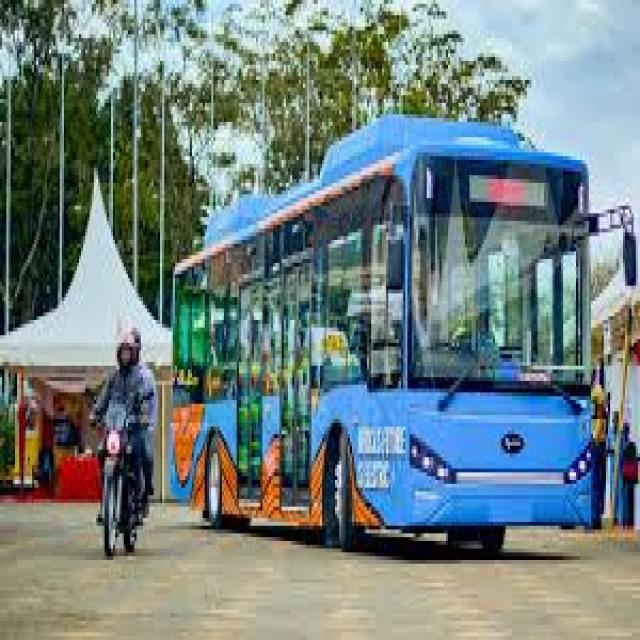bodaboda: (70, 390, 172, 568)
bus: (170, 112, 606, 566)
